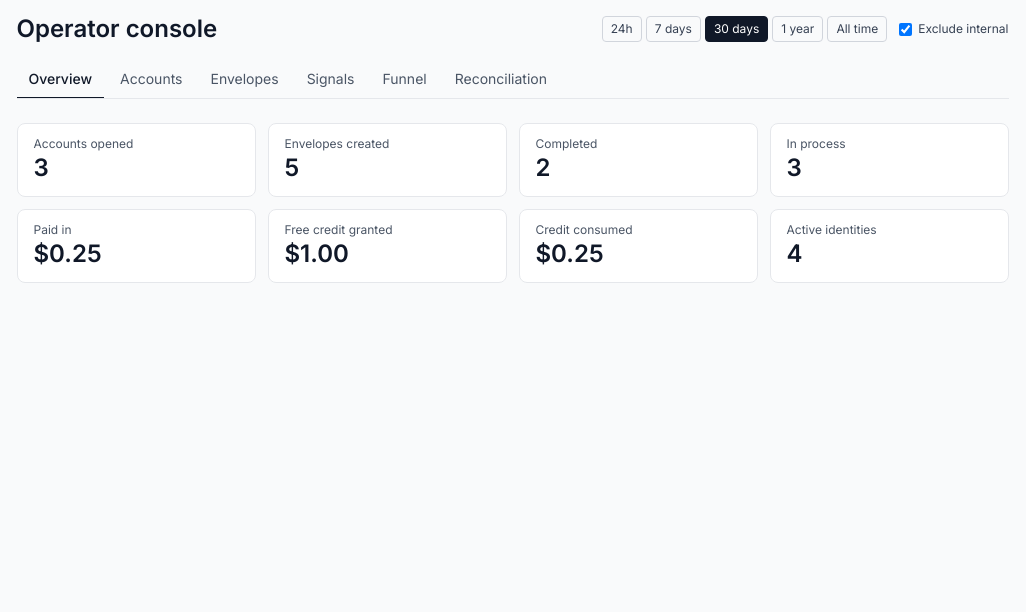
it: AdminConsolePage — F-34.8 every tile drills down (AC-203/204) › the multi-value aging tile reaches each bucket independently (AC-204)
Expected: the button with test id "admin-kpi-accountsOpened" is shown, [16,123,256,197]
Click the button with test id "admin-tab-envelopes".
click(245, 80)  # box [198,61,291,99]
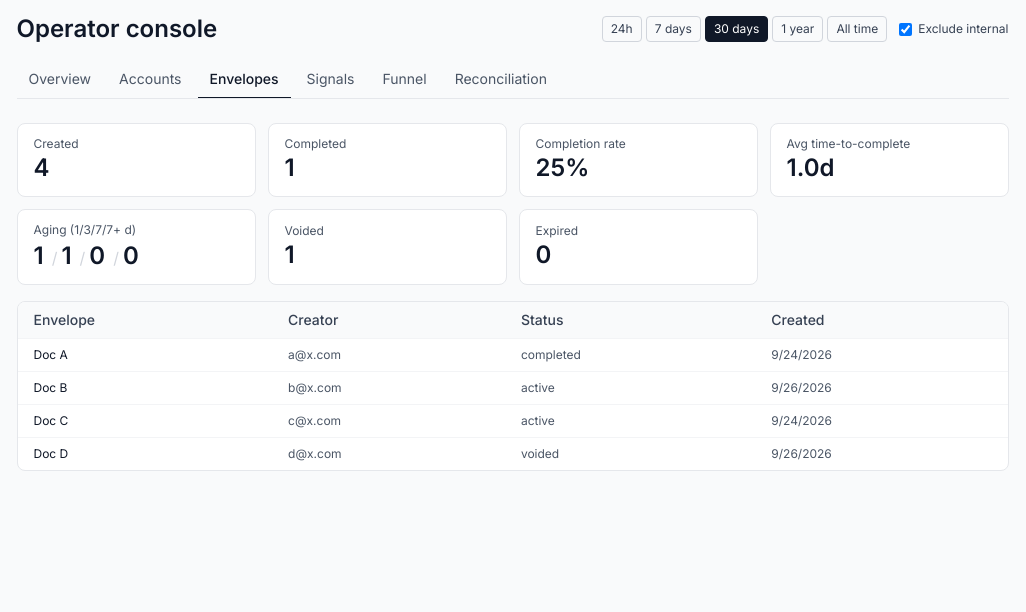
Expected: the button with test id "admin-kpi-funnelCreated" is shown, [16,123,256,197]
Click the button with test id "admin-kpi-funnelAging-lt1d".
click(39, 256)  # box [34,240,44,272]
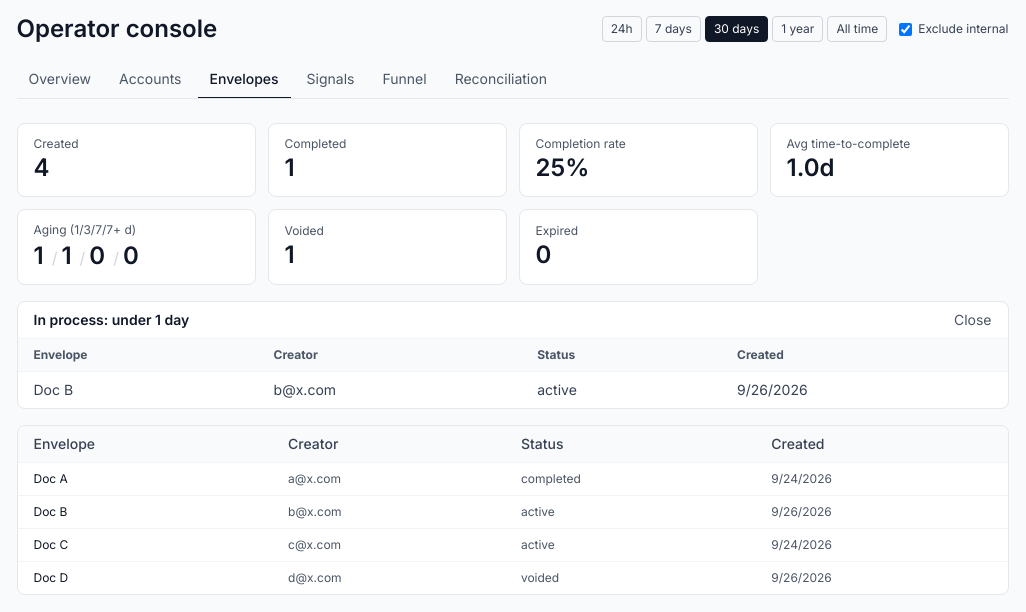
Expected: the element with test id "admin-drill" shows "Doc B", [34,381,73,398]
Click the button with test id "admin-drill-close".
click(973, 320)  # box [954,310,992,330]
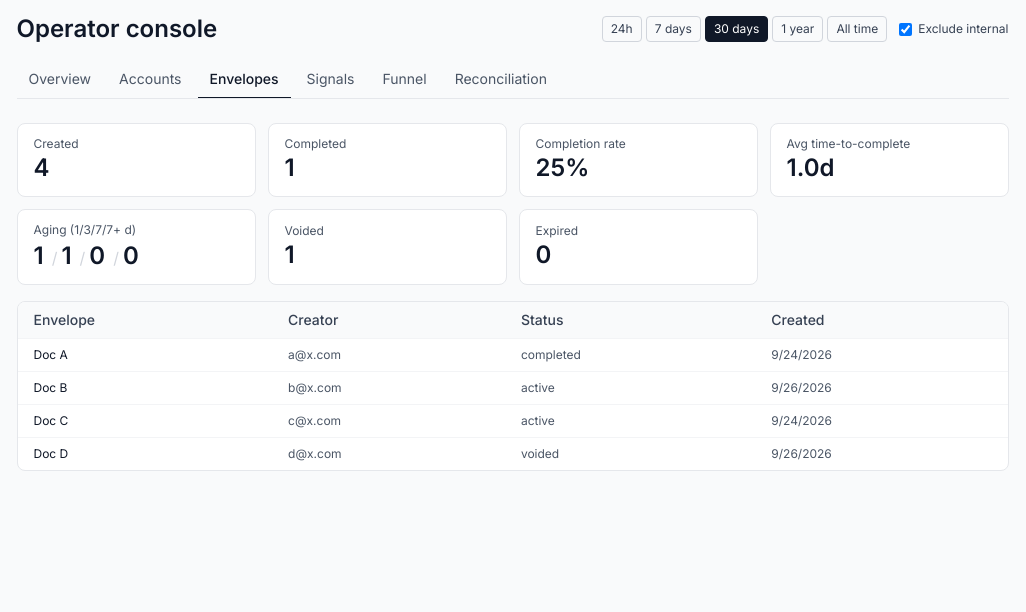
Click the button with test id "admin-kpi-funnelAging-d1to3".
click(66, 256)  # box [61,240,72,272]
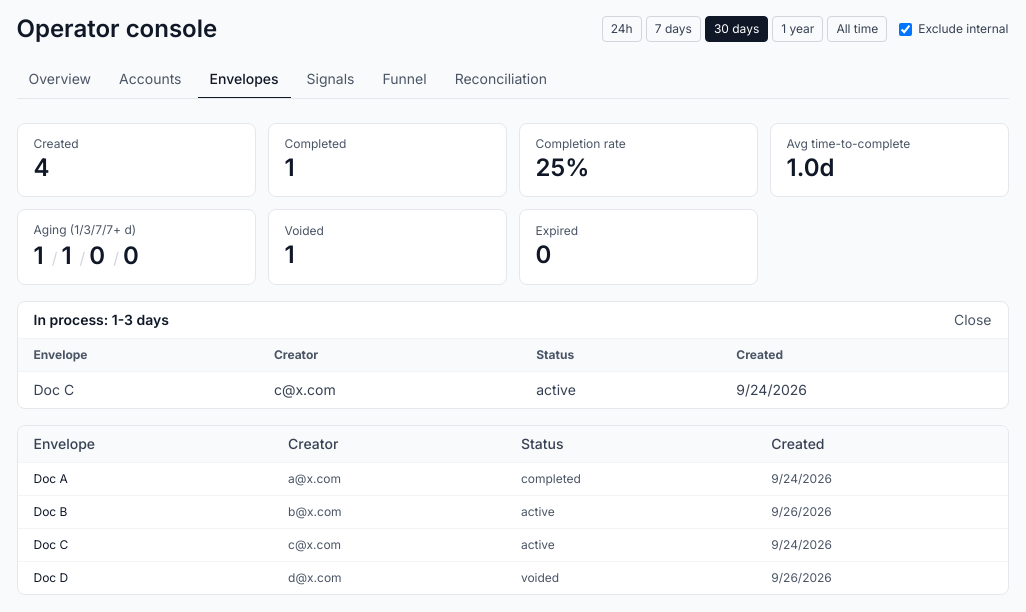
Expected: the element with test id "admin-drill" shows "Doc C", [34,381,74,398]
